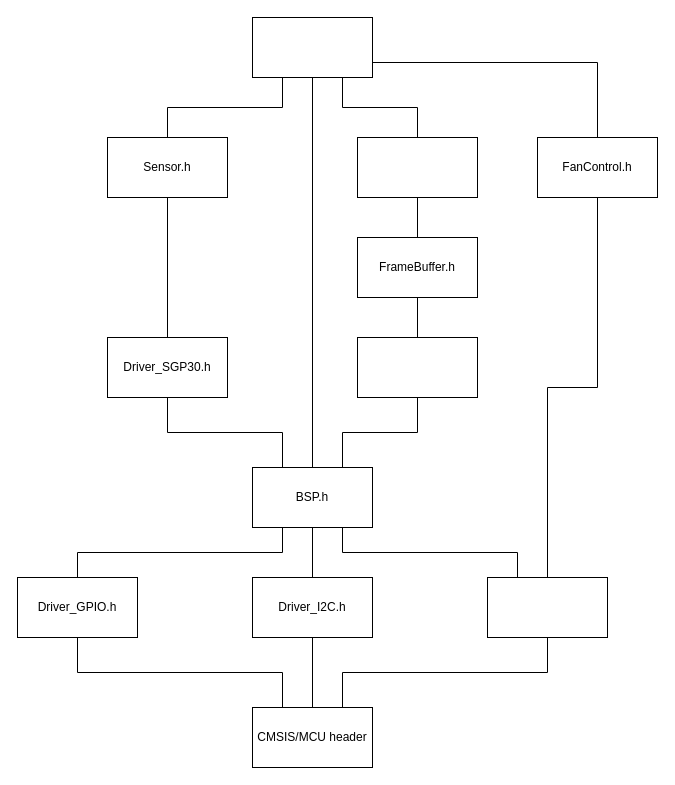
Image size: 675x785. Some labels were removed from this diagram. Each missing label, with the centre of its shape:
"Driver_PWM.h" goes at (547,607).
"Driver_SSD1306.h" goes at (417,367).
"Graphics.h" goes at (417,167).
"main.c" goes at (312,47).
